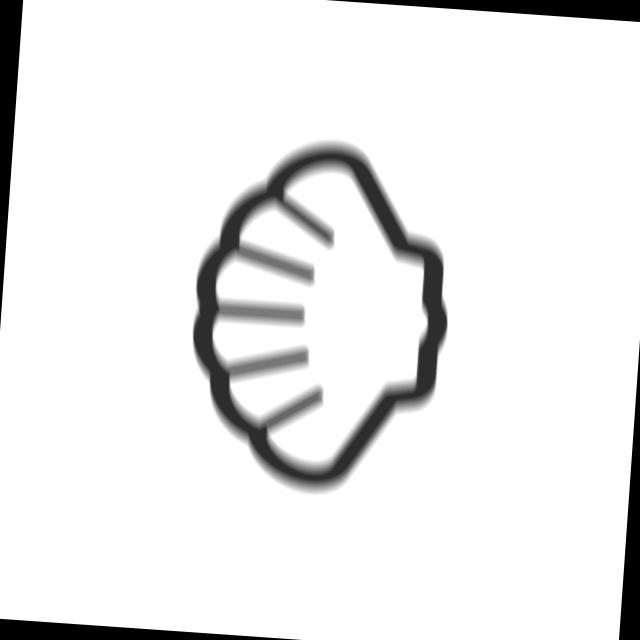shell: (173, 123, 467, 511)
